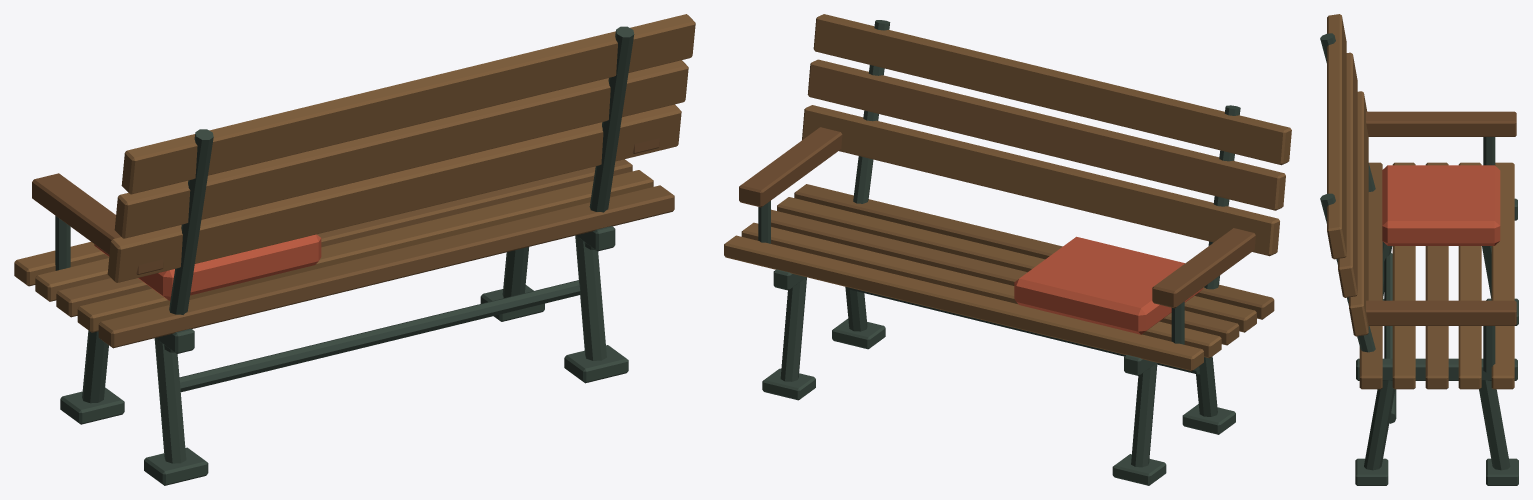
File: SM_Bench_L1.glb
3 views of the same model, side by side, from view 1: azimuth 30°, elevation 25°; view 2: azimuth 150°, elevation 25°; view 3: azimuth 270°, elevation 25° (orthographic). The views are drawn at different scales.
Parts seen in each view (by area): view 1: SM_Bench, SM_BenchCushion; view 2: SM_Bench, SM_BenchCushion; view 3: SM_Bench, SM_BenchCushion.
Boxes of the visible parts, bbox=[...] form: SM_Bench: bbox=[14, 14, 695, 485]; SM_BenchCushion: bbox=[94, 234, 321, 300]; SM_Bench: bbox=[724, 14, 1291, 485]; SM_BenchCushion: bbox=[1014, 236, 1203, 334]; SM_Bench: bbox=[1320, 14, 1518, 485]; SM_BenchCushion: bbox=[1382, 165, 1500, 245].
Bounding box in the file's own units: 1.85 × 1.14 × 0.724.
